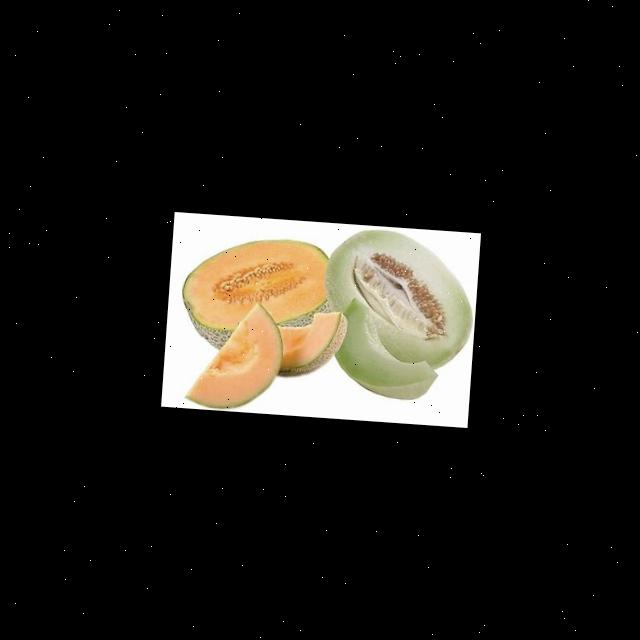Hami Melon: (177, 228, 328, 334), (182, 297, 284, 413)
